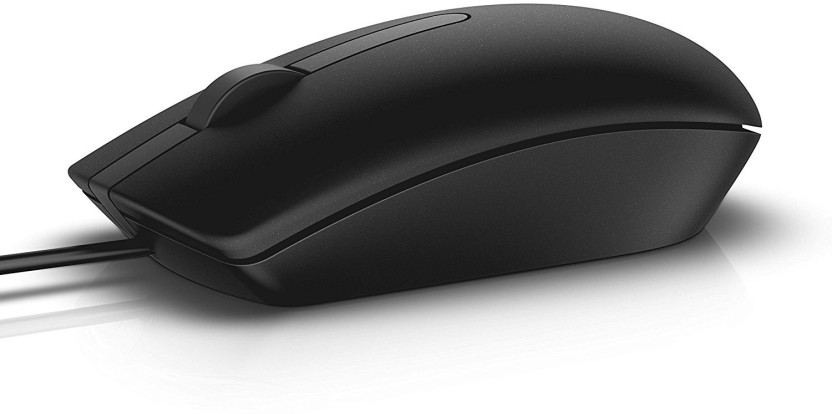dell-mouse-ms116: (1, 1, 770, 306)
